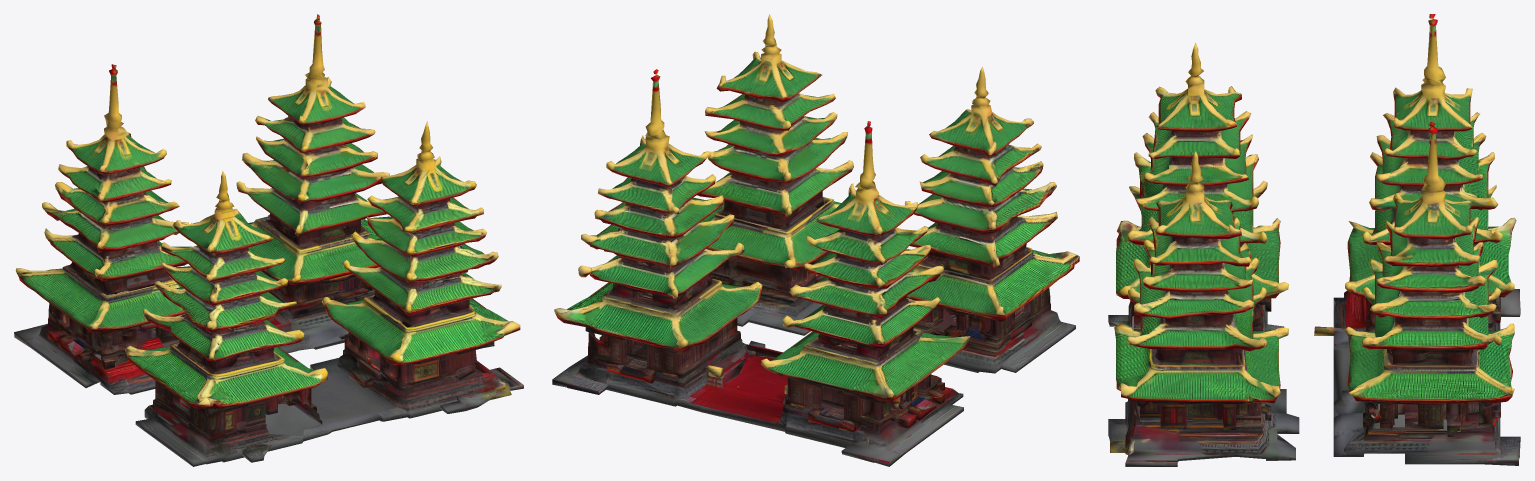
File: buddhist_temple.glb
3 views of the same model, side by side, from view 1: azimuth 30°, elevation 25°; view 2: azimuth 150°, elevation 25°; view 3: azimuth 270°, elevation 25° (orthographic). The views are drawn at different scales.
Size of the model in its own units: 1.89 by 1.59 by 1.88.
1 material, 1 textured.
